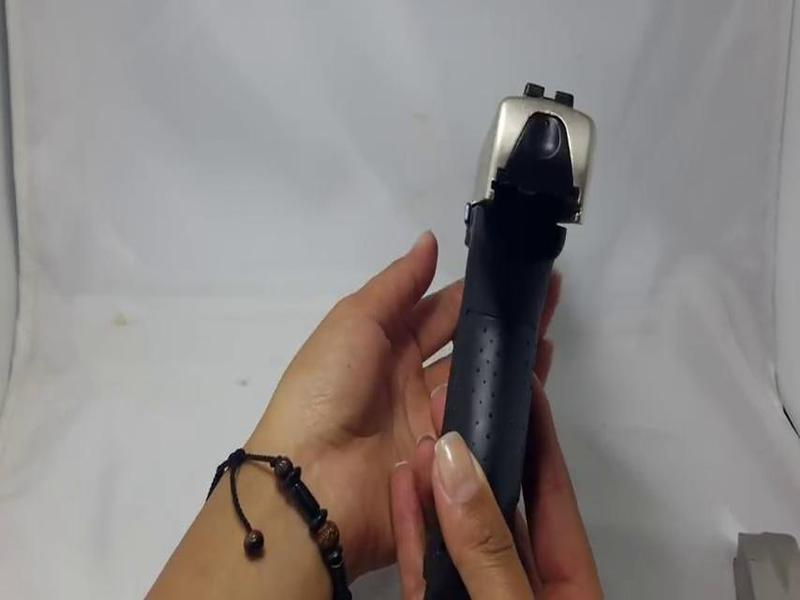Pistola: (354, 75, 685, 573)
